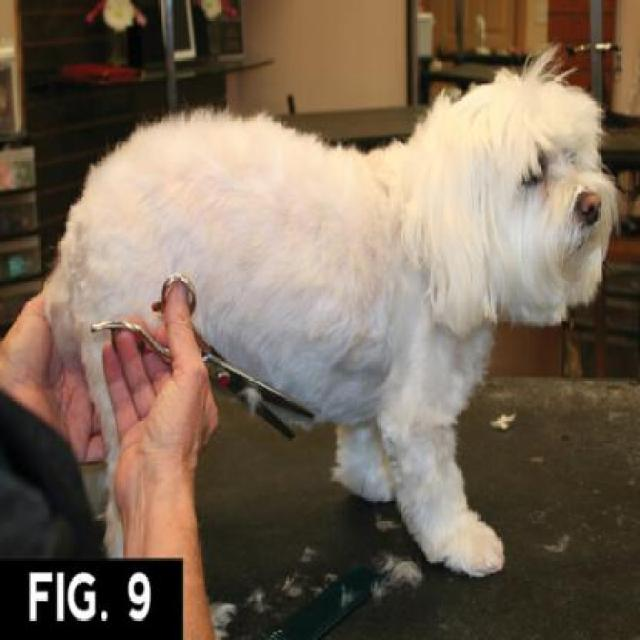Dog: (40, 41, 625, 578)
